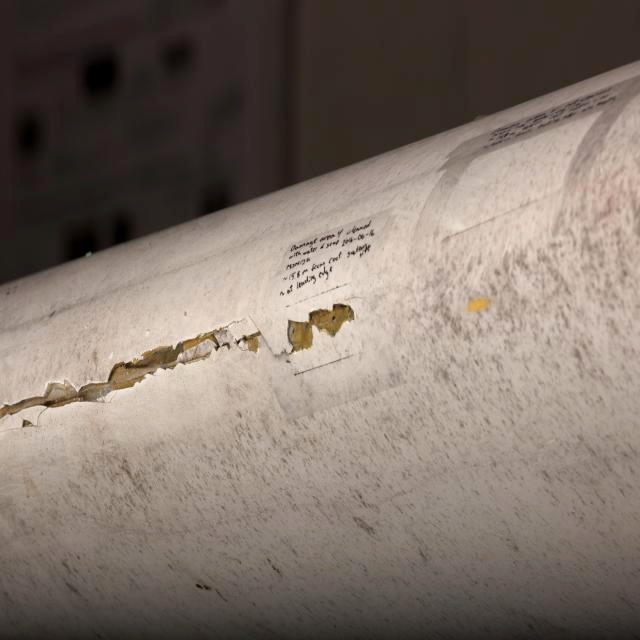Coating_defects: (284, 304, 375, 358)
Crack: (11, 319, 238, 426)
